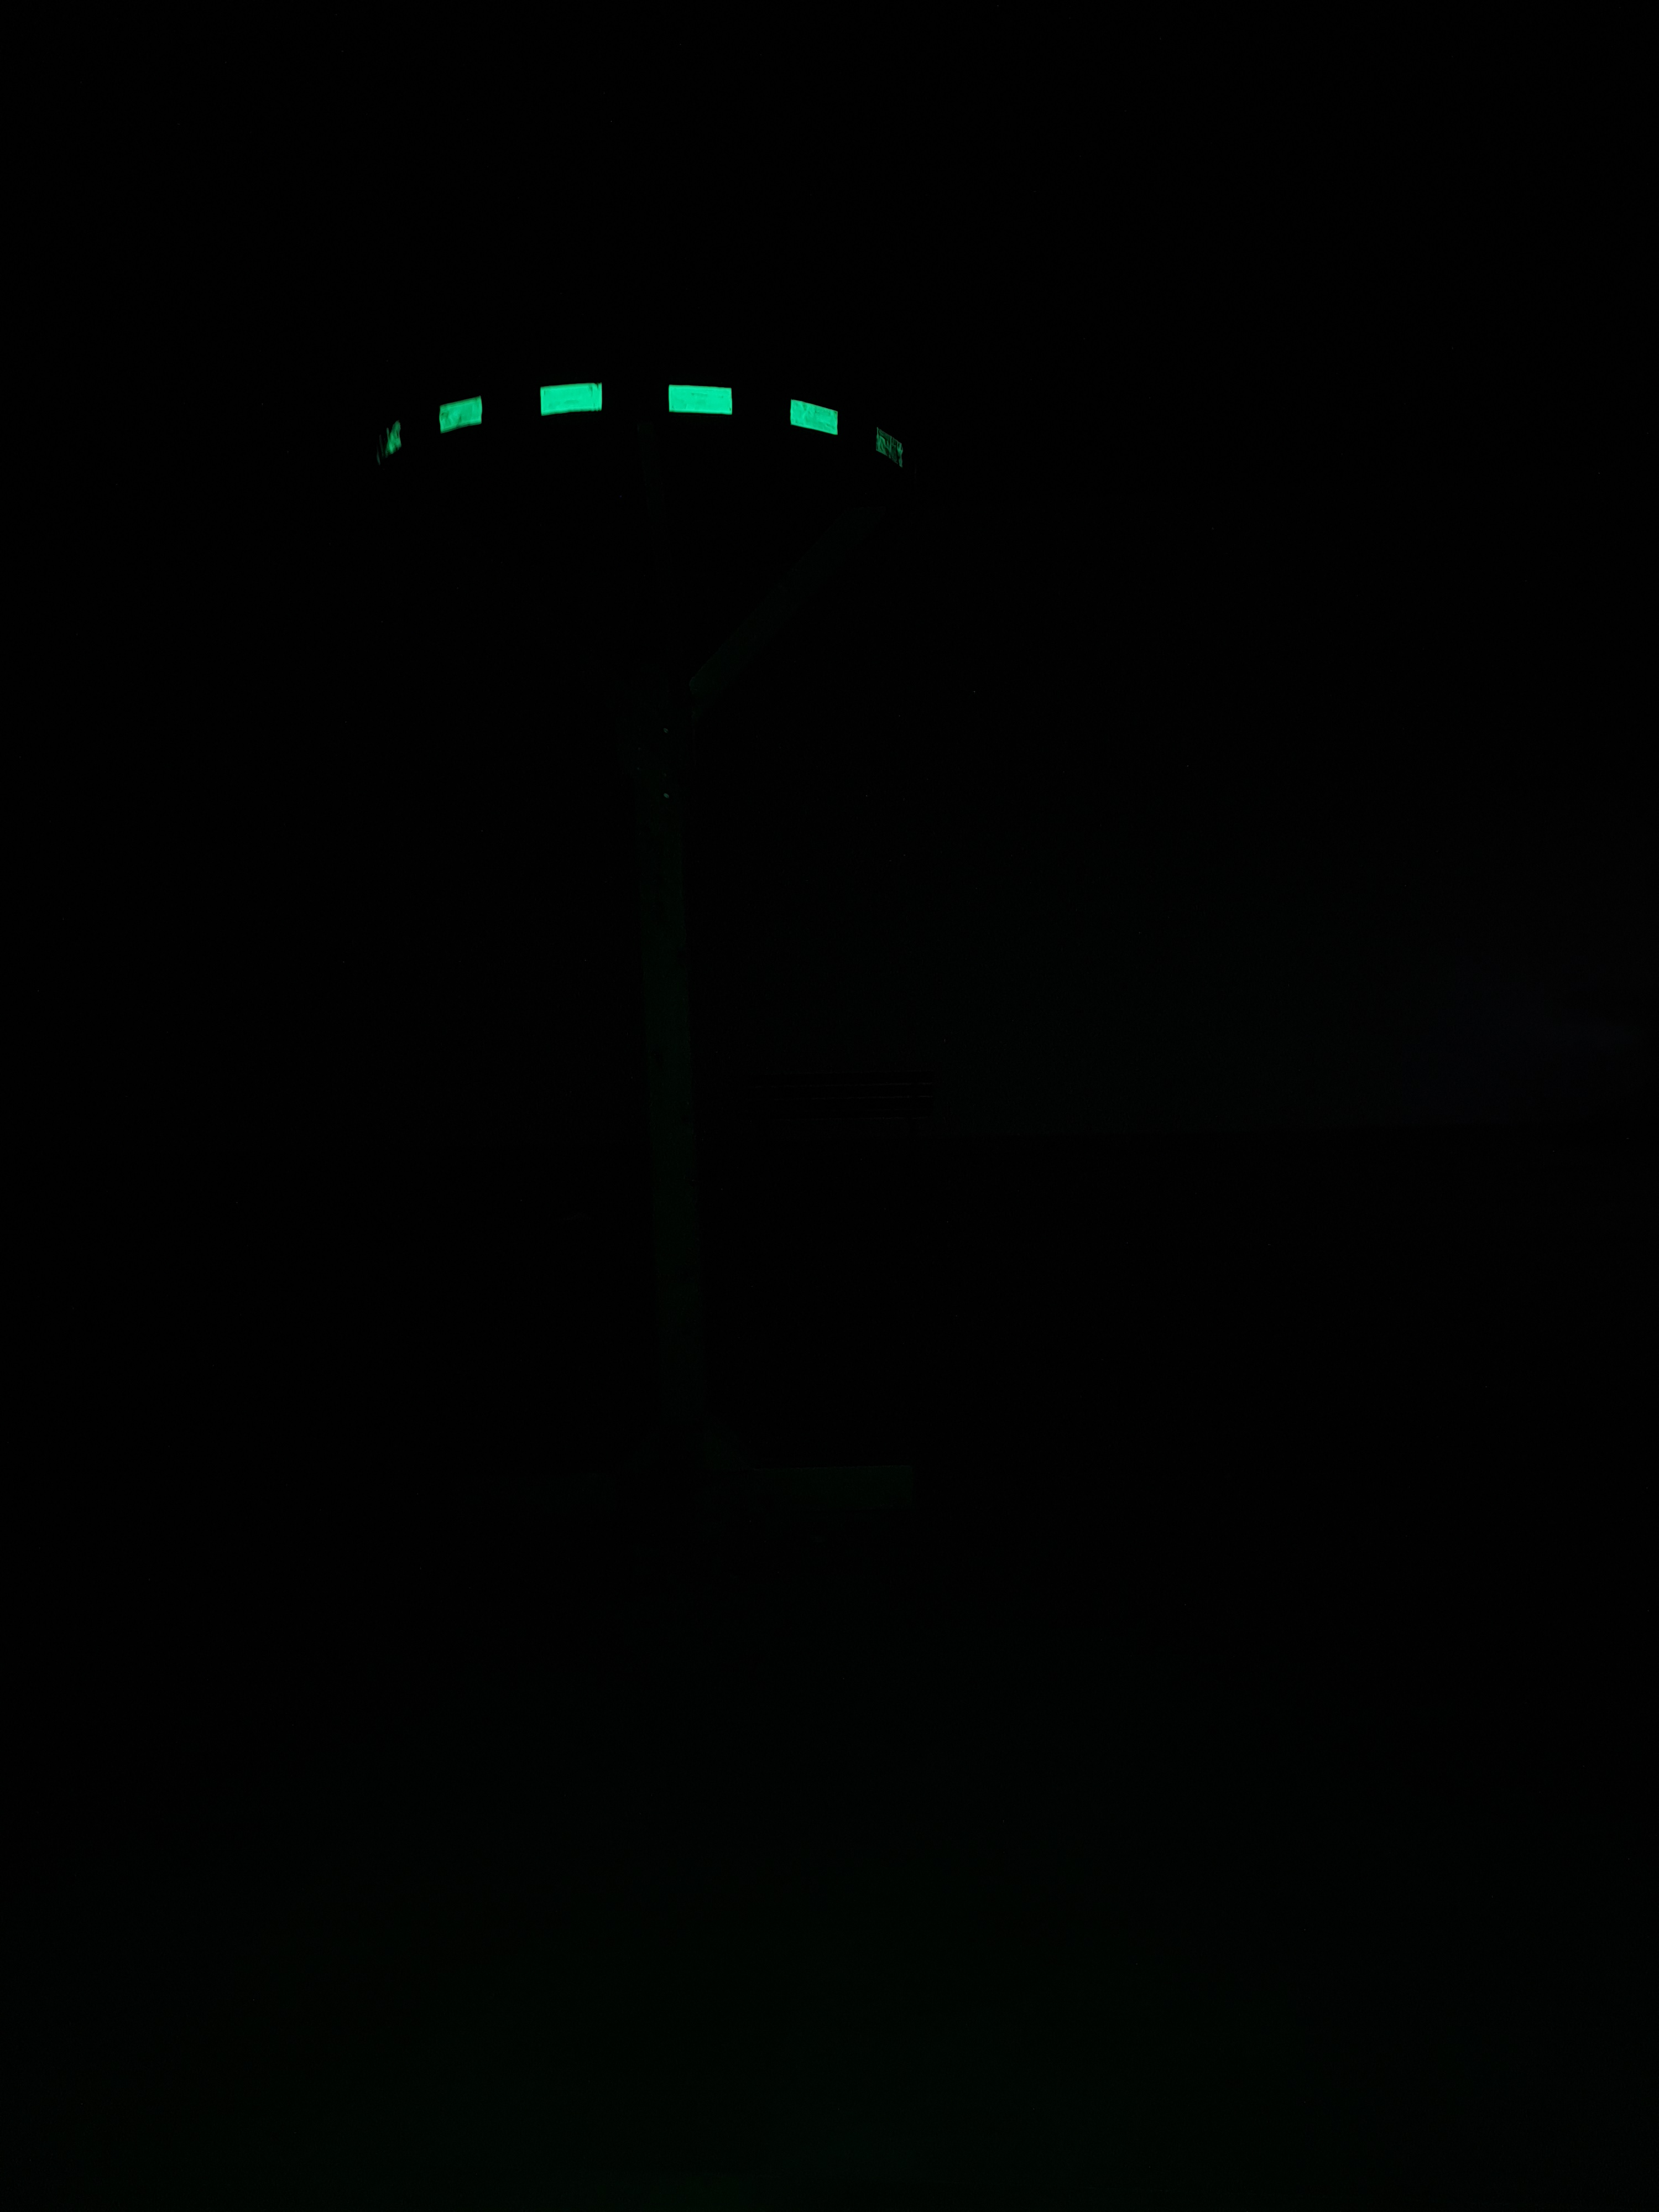hoop: (378, 376, 908, 484)
